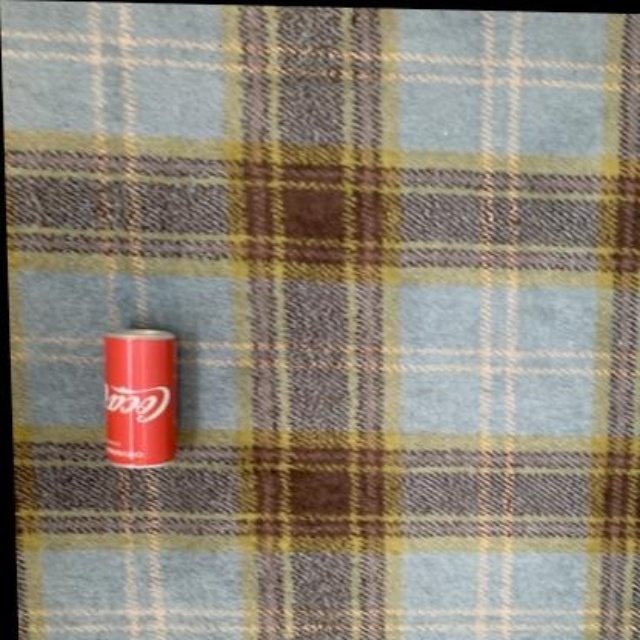trash: (105, 329, 175, 466)
